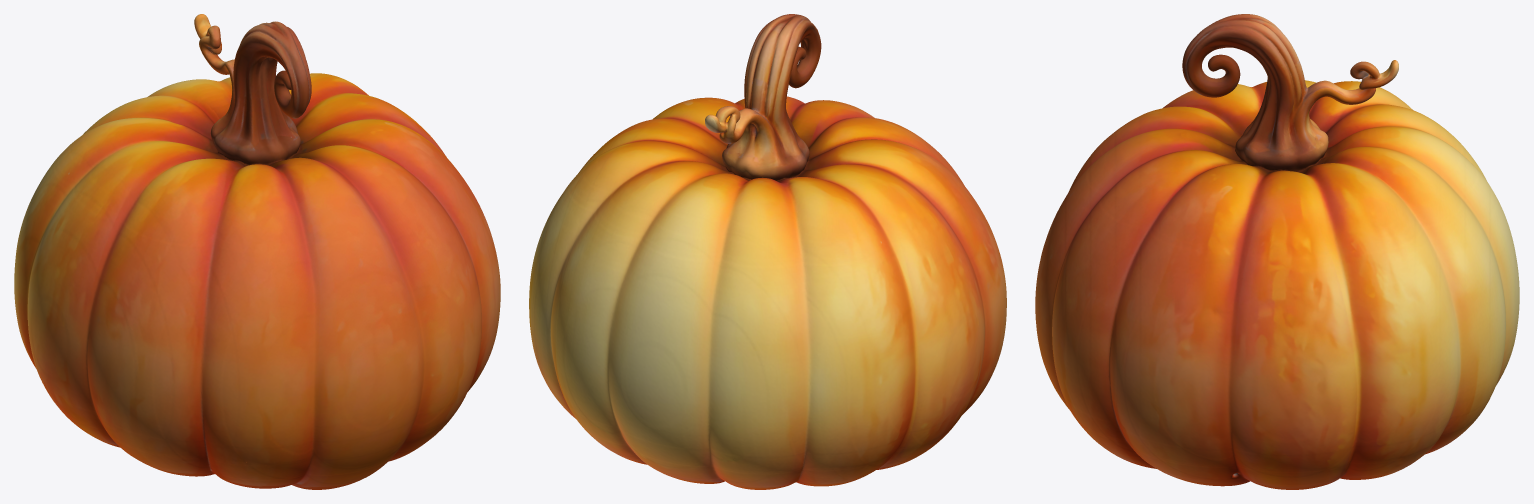
The picture shows the model from 3 angles, left to right: view 1: azimuth 30°, elevation 25°; view 2: azimuth 150°, elevation 25°; view 3: azimuth 270°, elevation 25°; orthographic projection. The views are drawn at different scales.
Parts seen in each view (by area): view 1: meshes[0]; view 2: meshes[0]; view 3: meshes[0].
Boxes of the visible parts, x1=… form: meshes[0]: x1=14, y1=14, x2=500, y2=489; meshes[0]: x1=529, y1=14, x2=1006, y2=489; meshes[0]: x1=1035, y1=14, x2=1519, y2=489.
Size of the model in its own units: 100 by 98.46 by 99.94.
1 material, 1 textured.
